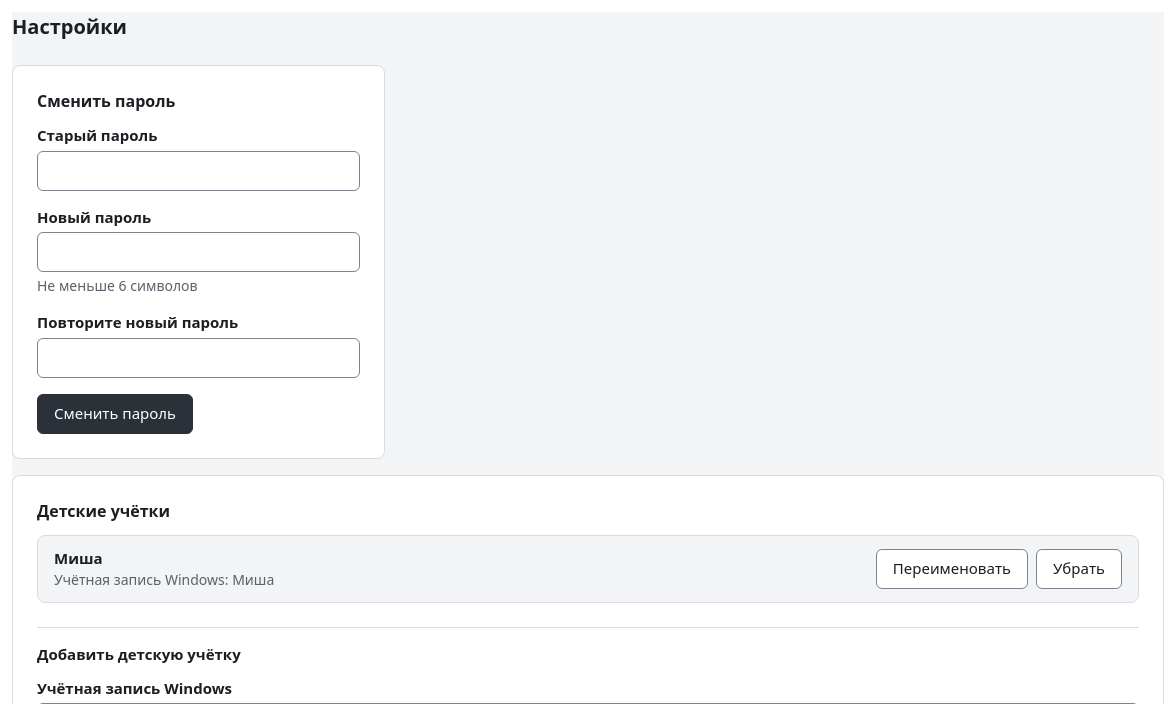
Settings: сменить пароль › ошибки у полей: пустой старый, короткий новый, несовпадение
The image size is (1164, 704).
Click the button "Сменить пароль": (115, 414) [37, 394, 193, 434]
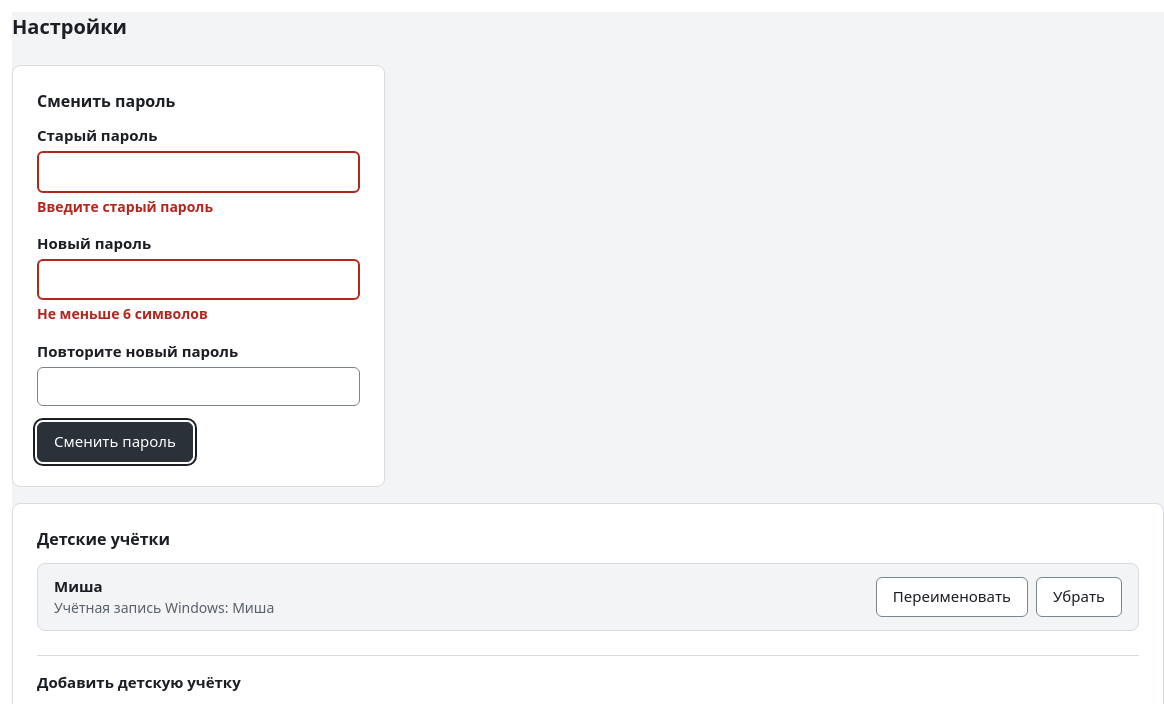
Expected: the messages read "Введите старый пароль", "Не меньше 6 символов", in this order, [37, 197, 213, 216]; [37, 304, 208, 324]
In the password field labelled "Старый пароль": (199, 172) [37, 151, 360, 193], type "секрет-123"
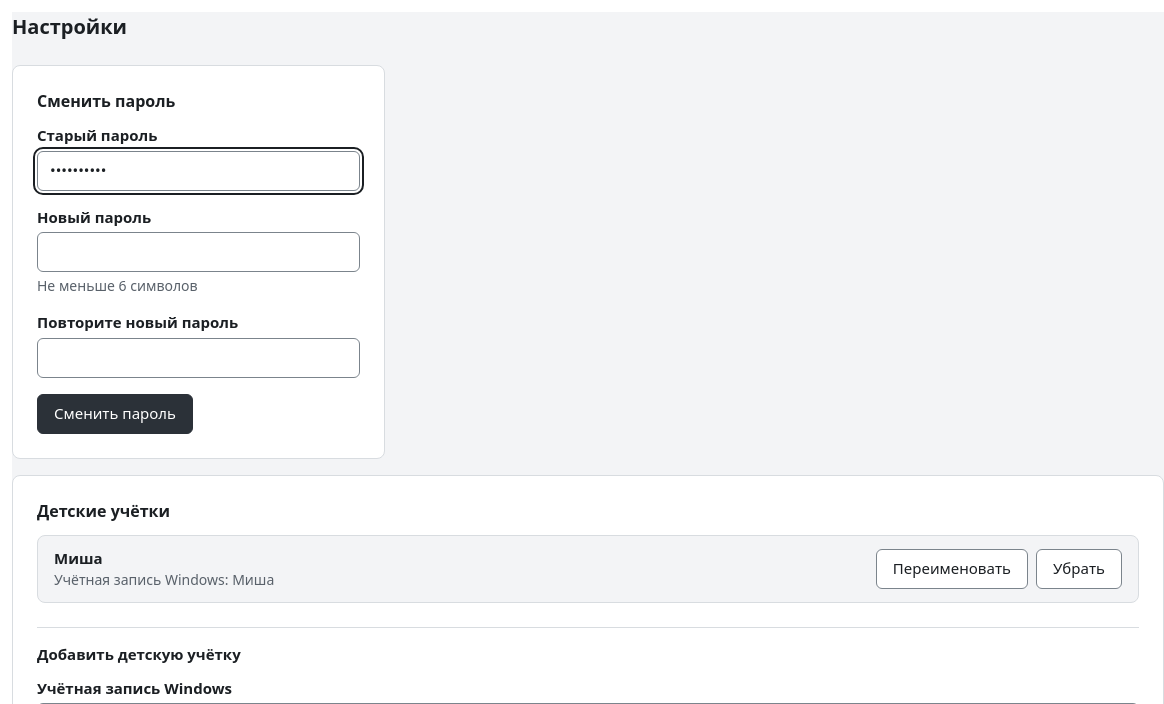
In the password field labelled "Новый пароль": (199, 252) [37, 232, 360, 272], type "новый-секрет"
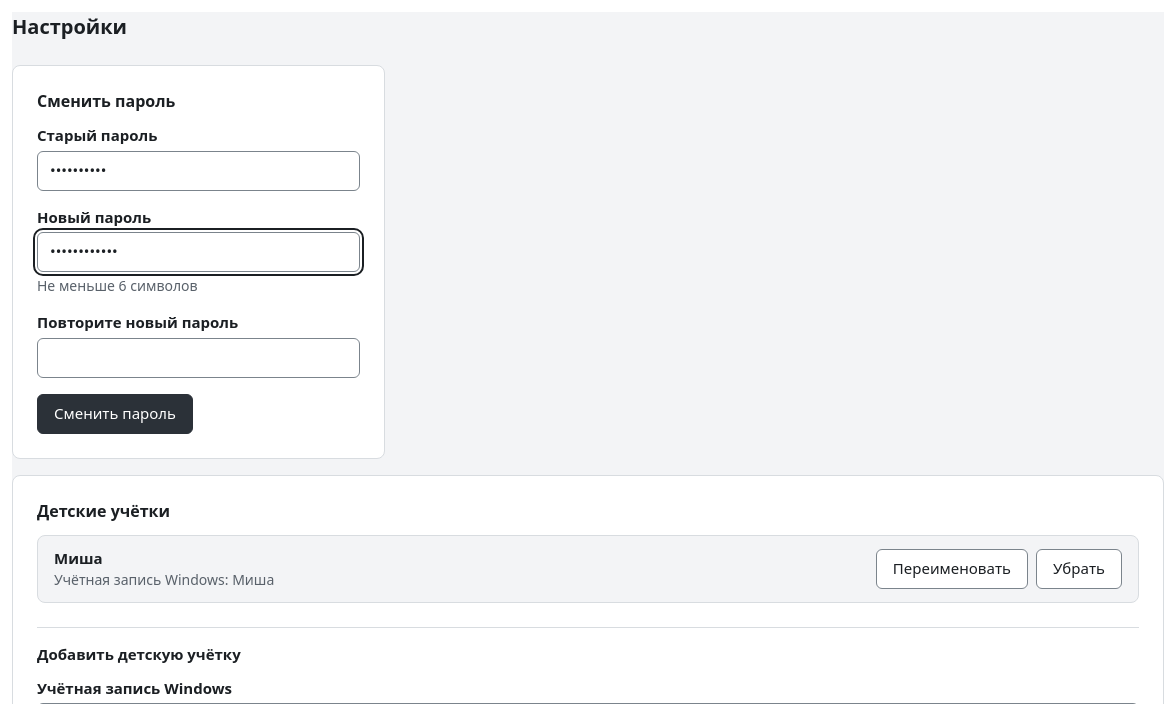
In the password field labelled "Повторите новый пароль": (199, 358) [37, 338, 360, 378], type "новый-секрет-2"
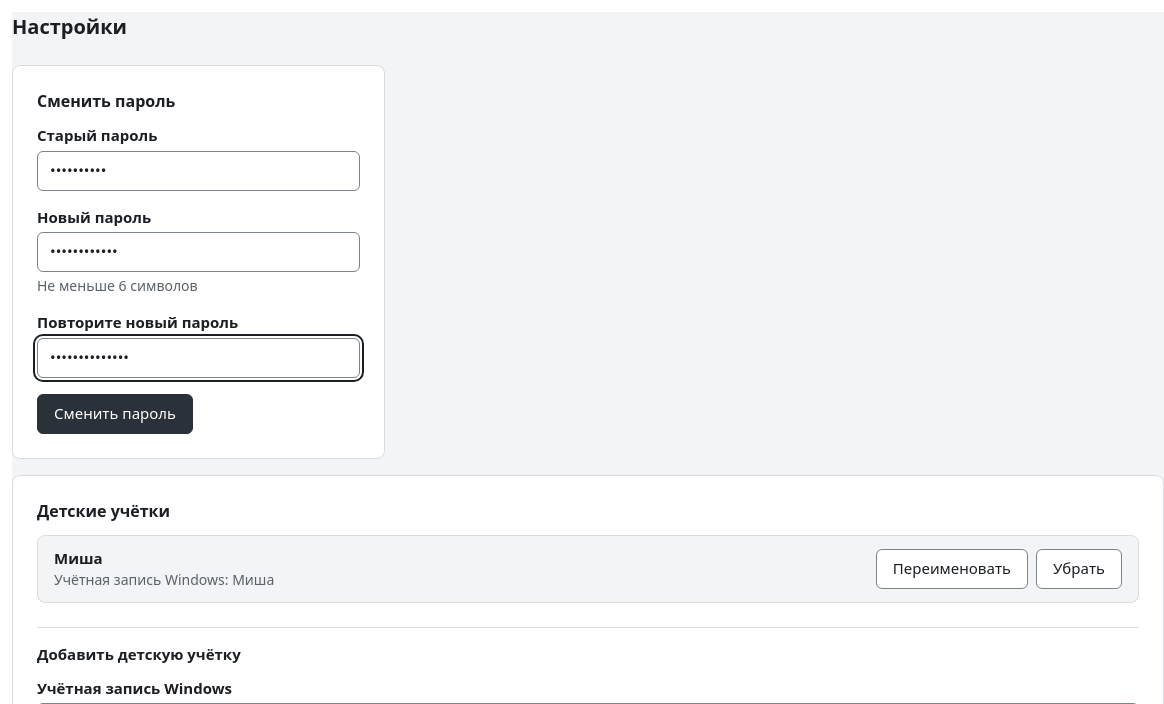
Click the button "Сменить пароль": (115, 414) [37, 394, 193, 434]
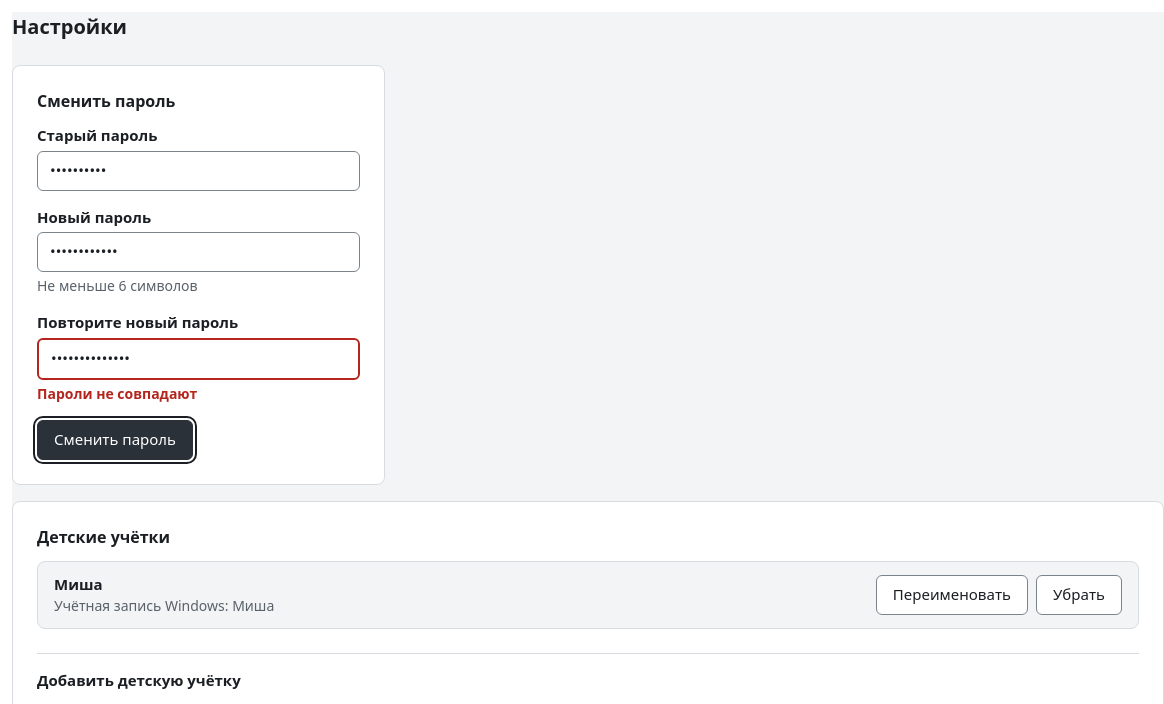
Expected: the messages read "Пароли не совпадают", in this order, [37, 384, 197, 403]
